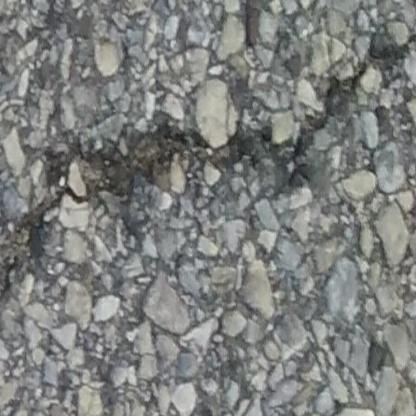Cracks: (0, 15, 416, 302)
